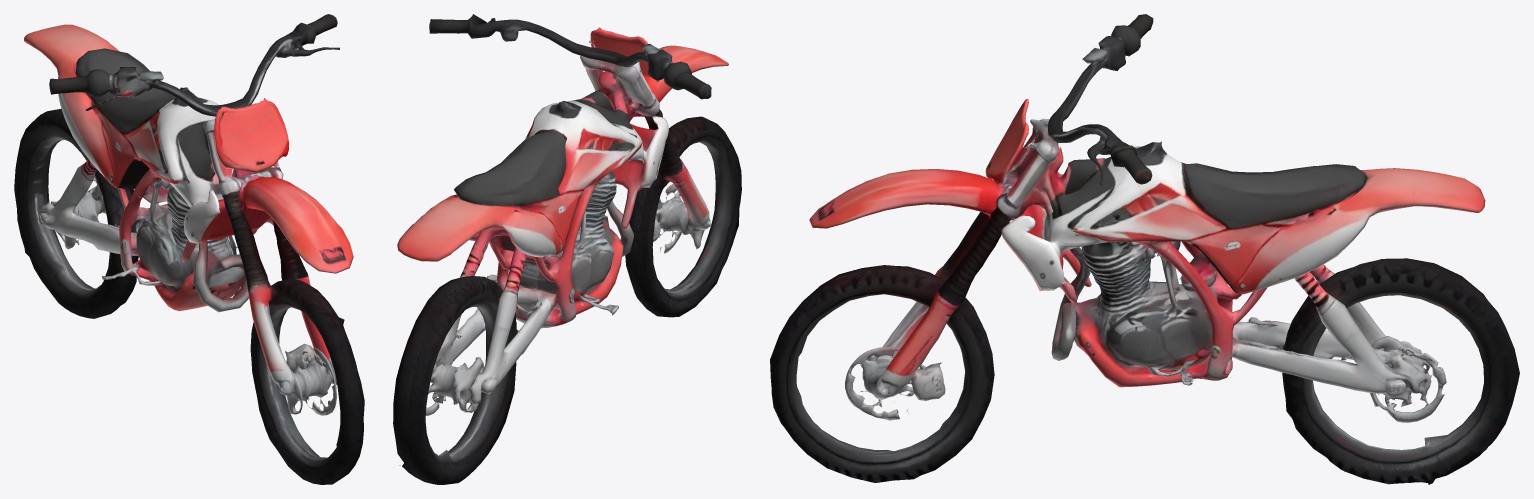
File: v_moto.glb
The picture shows the model from 3 angles, left to right: view 1: azimuth 30°, elevation 25°; view 2: azimuth 150°, elevation 25°; view 3: azimuth 270°, elevation 25°; orthographic projection. The views are drawn at different scales.
Parts seen in each view (by area): view 1: model; view 2: model; view 3: model.
Boxes of the visible parts, x1,y1,x2,y2 form: model: (14,14,364,484); model: (393,14,741,484); model: (770,14,1519,484).
Bounding box in the file's own units: 0.9306 × 1.11 × 1.89.
Materials: 1 (1 with a texture image).
